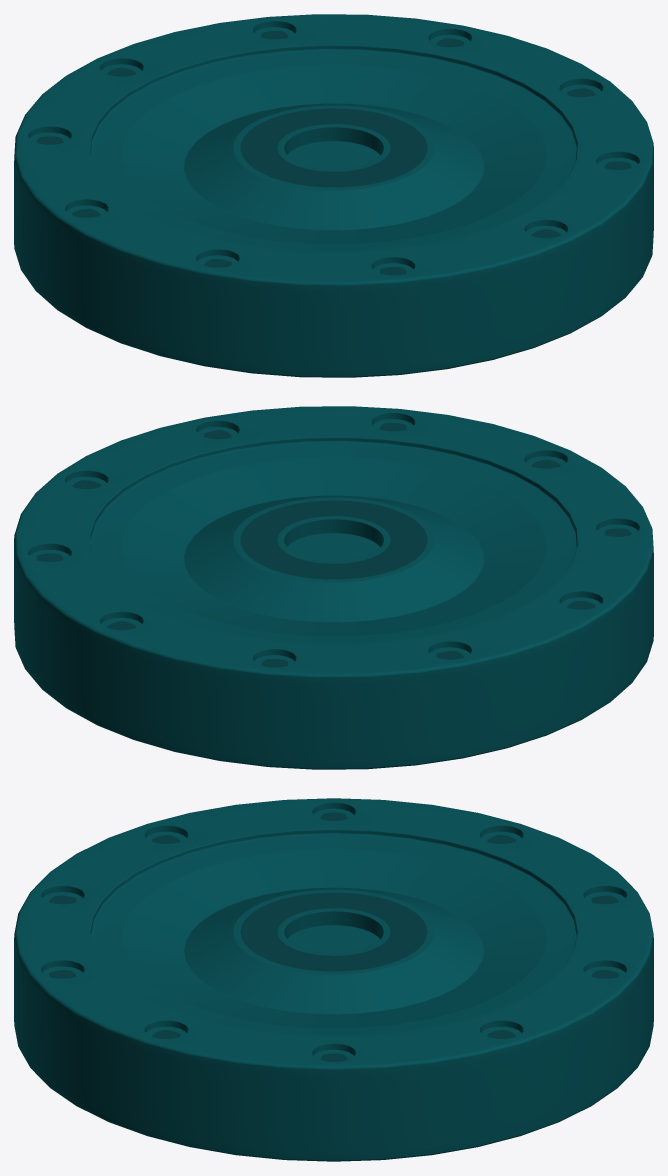
The model's file is gear.fbx.
The picture shows the model from 3 angles, top to bottom: view 1: azimuth 30°, elevation 25°; view 2: azimuth 150°, elevation 25°; view 3: azimuth 270°, elevation 25°; orthographic projection.
Visible parts, largest first — view 1: gear2_pCylinder15; view 2: gear2_pCylinder15; view 3: gear2_pCylinder15.
Boxes of the visible parts, x1,y1,x2,y2 form: gear2_pCylinder15: (14,14,653,377); gear2_pCylinder15: (14,406,653,769); gear2_pCylinder15: (14,798,653,1161).
Bounding box in the file's own units: 9.36 × 1.55 × 9.36.
